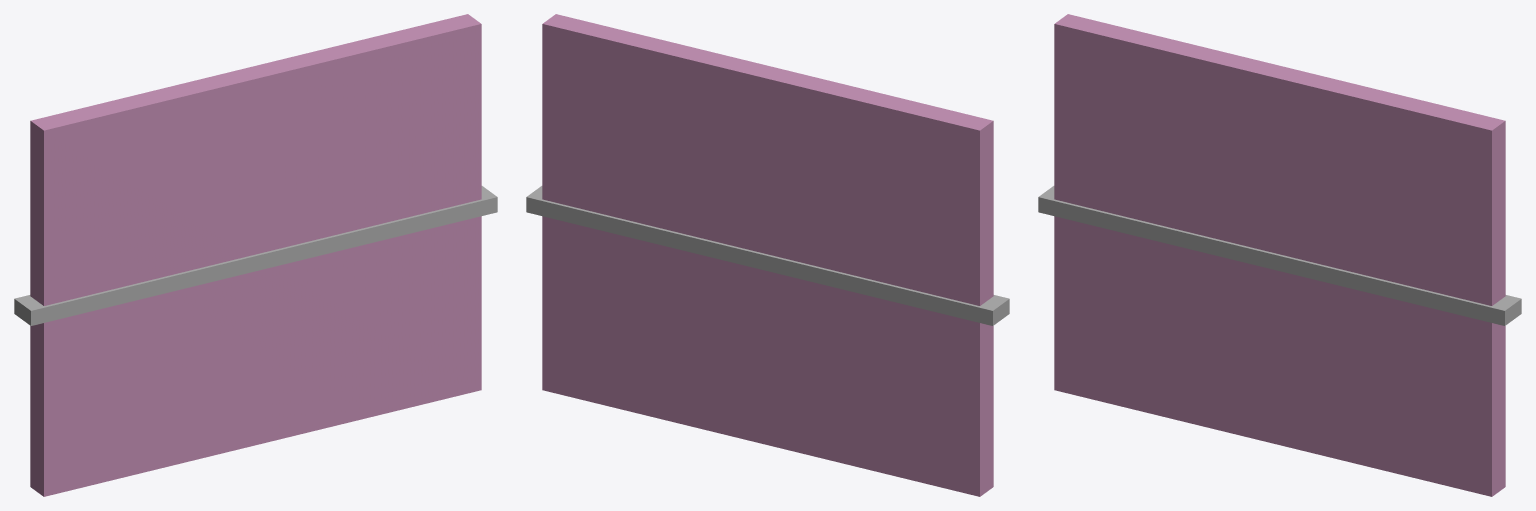
The model's file is mural_panel.glb.
3 renders of one model, left to right at view 1: azimuth 30°, elevation 25°; view 2: azimuth 150°, elevation 25°; view 3: azimuth 330°, elevation 25°, orthographic.
Visible parts, largest first — view 1: panel, frame; view 2: panel, frame; view 3: panel, frame.
Boxes of the visible parts, x1,y1,x2,y2 form: panel: (30,14,481,496); frame: (14,186,497,325); panel: (542,14,993,496); frame: (526,186,1009,325); panel: (1054,14,1505,496); frame: (1038,186,1521,325).
Bounding box in the file's own units: 3.2 × 2.4 × 0.1992.
